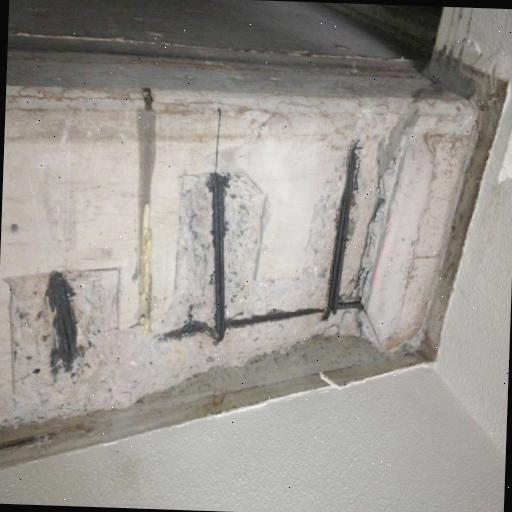spalling: (3, 136, 387, 438)
